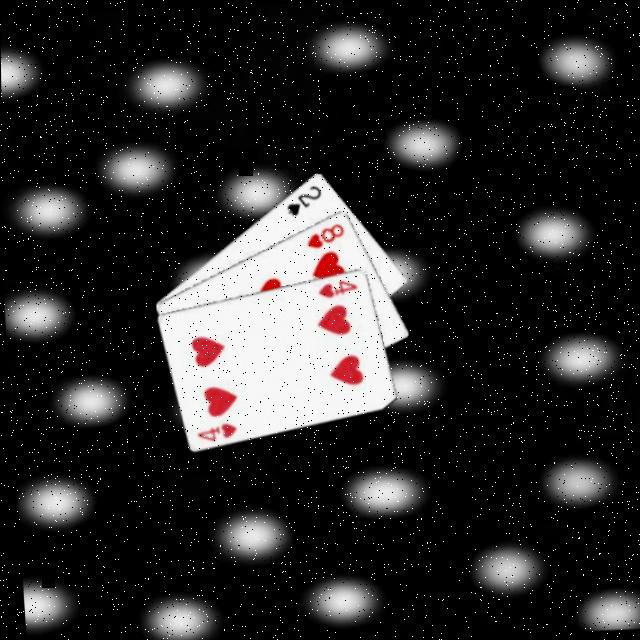2S: (282, 180, 326, 218)
4H: (193, 417, 240, 443), (315, 274, 360, 299)
8H: (302, 218, 348, 250)
